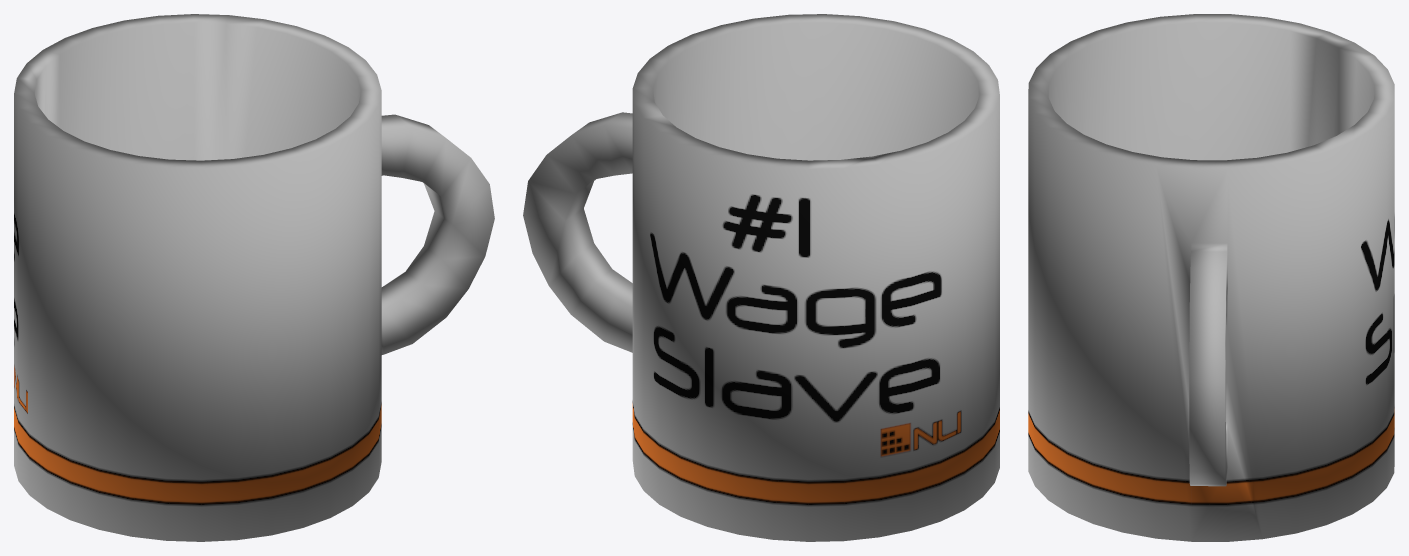
Rendered from NoveltyMugAModel.glb.
3 views of the same model, side by side, from view 1: azimuth 30°, elevation 25°; view 2: azimuth 150°, elevation 25°; view 3: azimuth 270°, elevation 25° (orthographic).
Visible parts, largest first — view 1: NoveltyMugA; view 2: NoveltyMugA; view 3: NoveltyMugA.
Boxes of the visible parts, box(x1,y1,x2,y2) form: NoveltyMugA: box(14, 14, 494, 541); NoveltyMugA: box(523, 14, 999, 541); NoveltyMugA: box(1028, 14, 1394, 541).
Bounding box in the file's own units: 1.51 × 1.21 × 1.07.
1 material, 1 textured.
